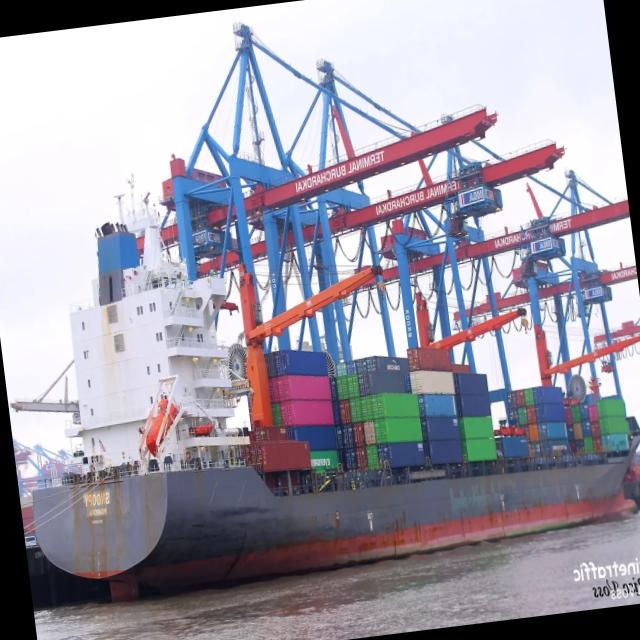Cargo: (13, 211, 640, 601)
